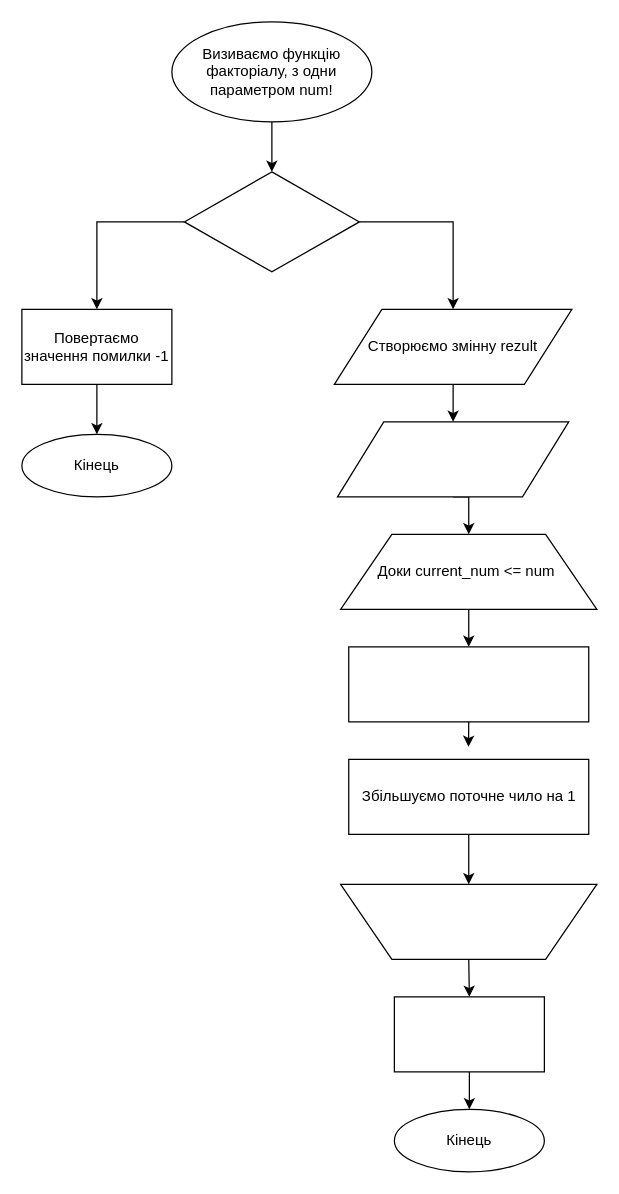
The diagram is 619 pixels wide and 1194 high, and some of its shapes have lost their labels. The box of each missing label's shape, as (x1, y1, x2, y2) in pixels:
Повертаємо результат: (393, 996, 544, 1072)
Помножаємо результат на поточне число: (348, 646, 589, 722)
Створюємо змінну де знаходиться поточнє число: (336, 421, 569, 497)
Якщо число <1: (183, 171, 359, 272)
